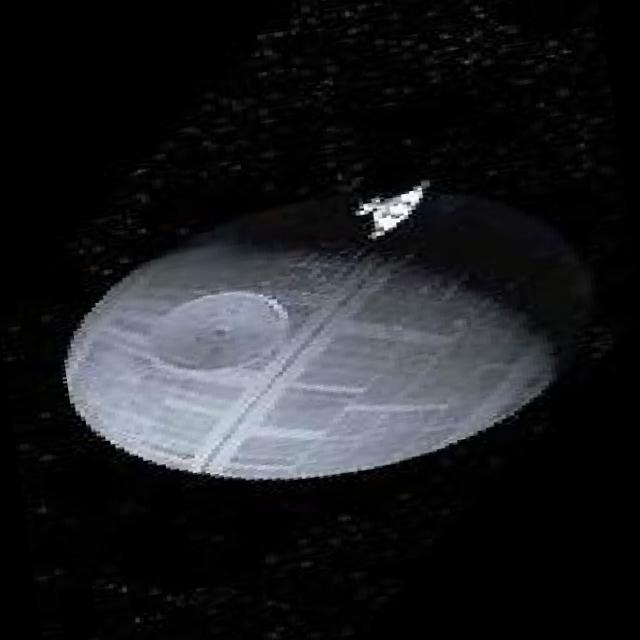Death Star: (36, 154, 612, 516)
